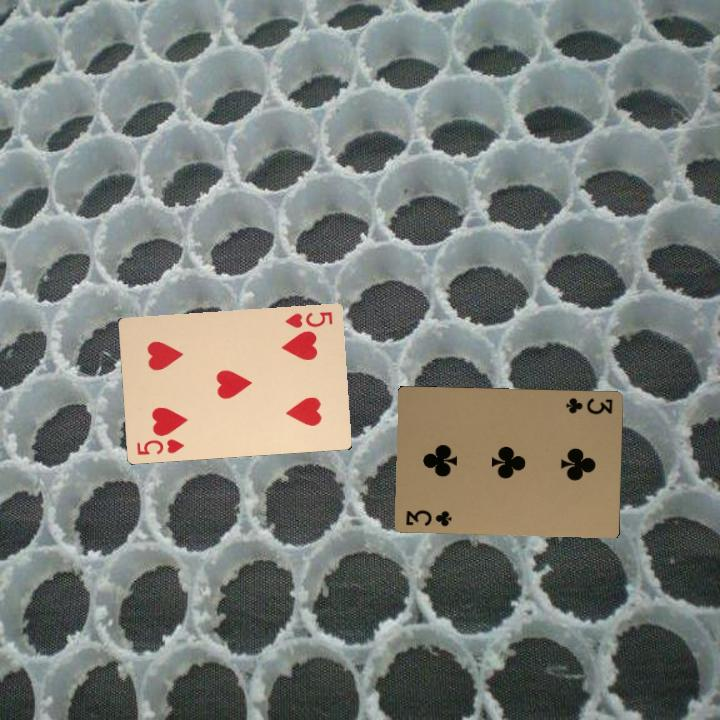3c: (562, 394, 615, 417), (402, 506, 455, 529)
5h: (281, 307, 335, 330), (132, 435, 186, 457)
